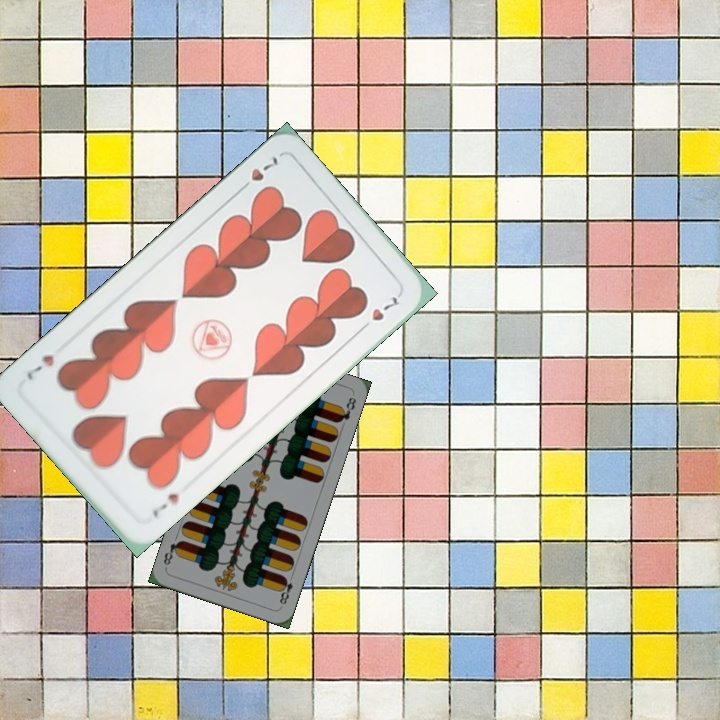E8: (275, 570, 296, 607)
H7: (234, 151, 281, 195), (148, 489, 182, 520)
